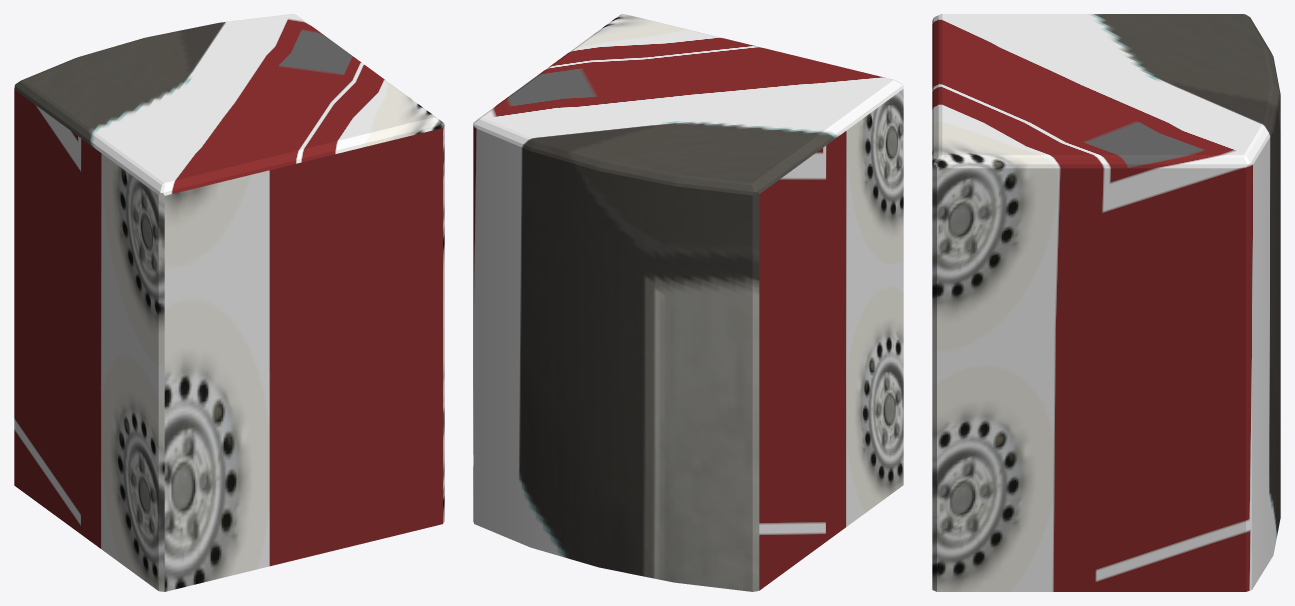
Rendered from W_MiniFridge.fbx.
3 views of the same model, side by side, from view 1: azimuth 30°, elevation 25°; view 2: azimuth 150°, elevation 25°; view 3: azimuth 270°, elevation 25° (orthographic). The views are drawn at different scales.
Parts seen in each view (by area): view 1: Cube.001; view 2: Cube.001; view 3: Cube.001.
Boxes of the visible parts, x1,y1,x2,y2 form: Cube.001: [14, 14, 444, 591]; Cube.001: [473, 14, 903, 591]; Cube.001: [932, 14, 1280, 591].
Size of the model in its own units: 0.3993 by 0.5398 by 0.3937.
